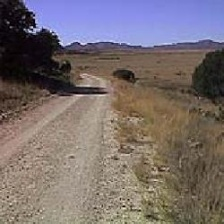neutral: (4, 2, 219, 220)
